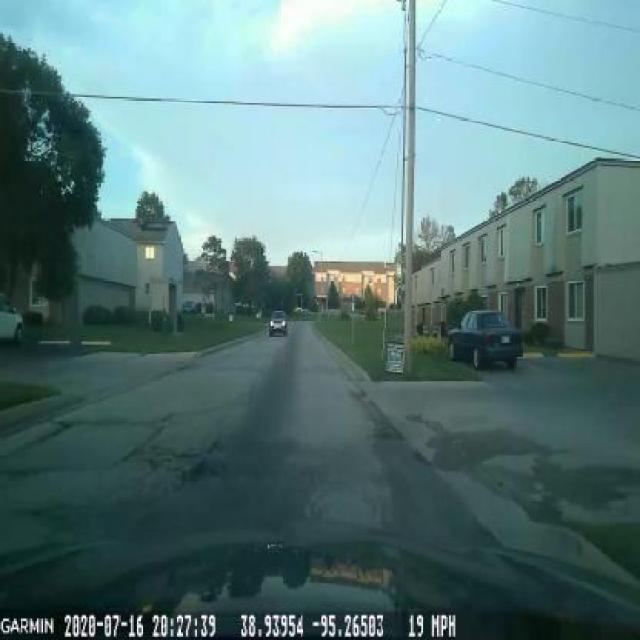Pothole: (150, 438, 230, 492)
